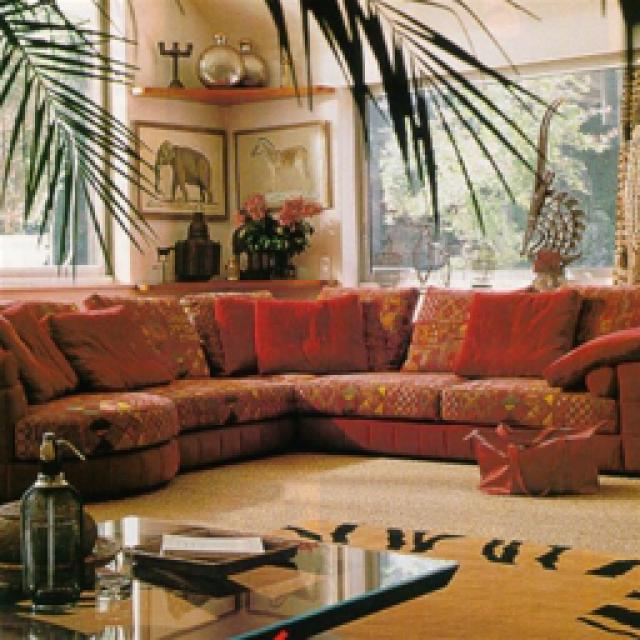2001: (352, 58, 630, 280)
basket crop: (468, 420, 598, 488)
book case: (158, 532, 260, 555)
bottle crop: (12, 432, 80, 618), (170, 202, 218, 278)
candle in holder: (155, 35, 188, 80)
painting crop: (230, 120, 328, 210), (125, 120, 220, 212)
pillow occluded: (42, 302, 172, 390), (452, 290, 582, 375), (250, 292, 362, 370), (212, 292, 252, 372)
plant -x: (262, 0, 562, 245), (230, 192, 318, 278)
plate food: (120, 522, 295, 578)
pot hanger: (192, 28, 238, 82), (238, 35, 268, 80)
rug -partially obscured-: (268, 518, 635, 635)
shelf crop: (128, 82, 332, 105), (130, 275, 335, 292)
small table part: (0, 510, 448, 635)
sofa bed: (2, 282, 635, 490)
statue: (512, 92, 588, 285)
